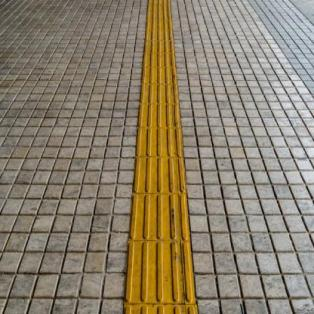Podoctatil: (125, 0, 198, 314)
